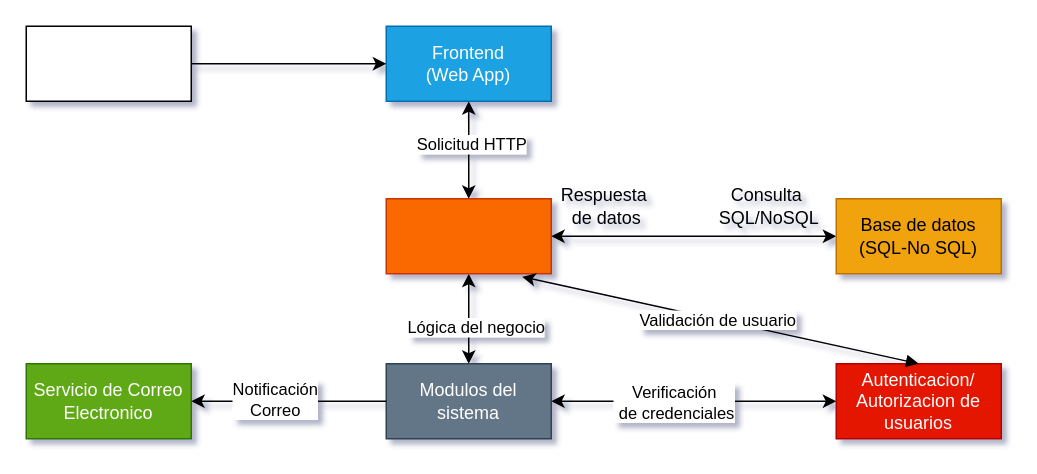
Image size: 1037x474. Some labels were removed from this diagram. Each missing label, with the centre of its shape:
"Backend (Api Rest)" goes at point 468,235.
"Usuario" goes at point 108,63.
